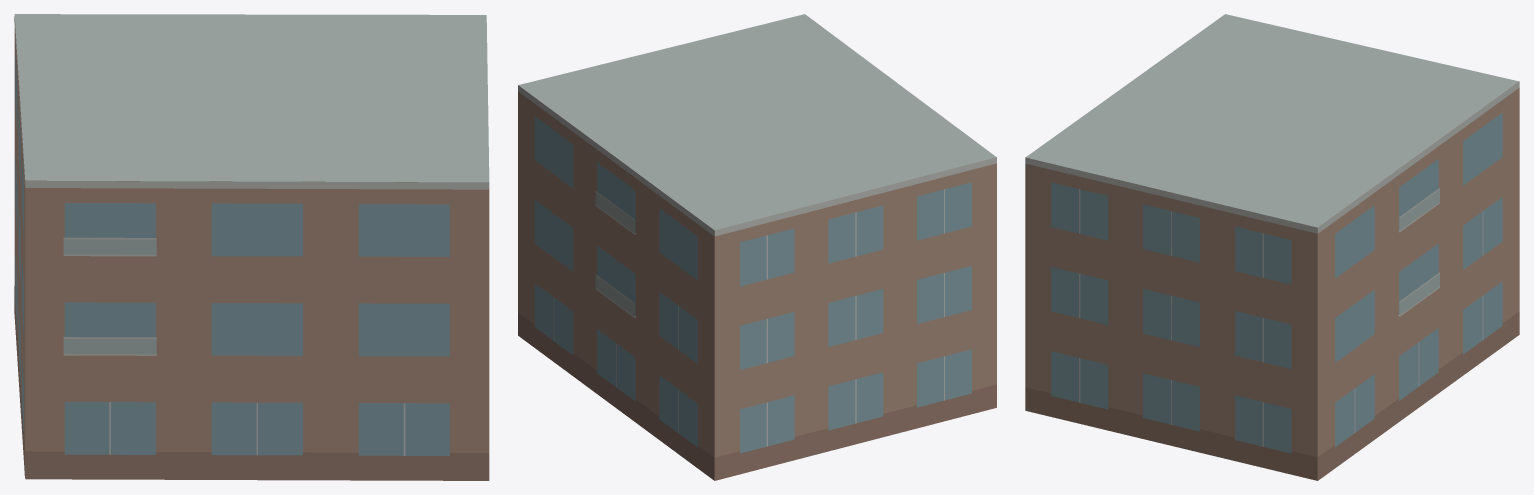
The model's file is survey-upis-32942401.glb.
3 renders of one model, left to right at view 1: azimuth 30°, elevation 25°; view 2: azimuth 150°, elevation 25°; view 3: azimuth 270°, elevation 25°, orthographic. The views are drawn at different scales.
Visible parts, largest first — view 1: survey-upis-32942401.tmp; view 2: survey-upis-32942401.tmp; view 3: survey-upis-32942401.tmp.
Boxes of the visible parts, x1,y1,x2,y2 form: survey-upis-32942401.tmp: (14, 14, 489, 480); survey-upis-32942401.tmp: (518, 14, 996, 480); survey-upis-32942401.tmp: (1025, 14, 1519, 480).
Size of the model in its own units: 18.19 by 10.05 by 17.78.
